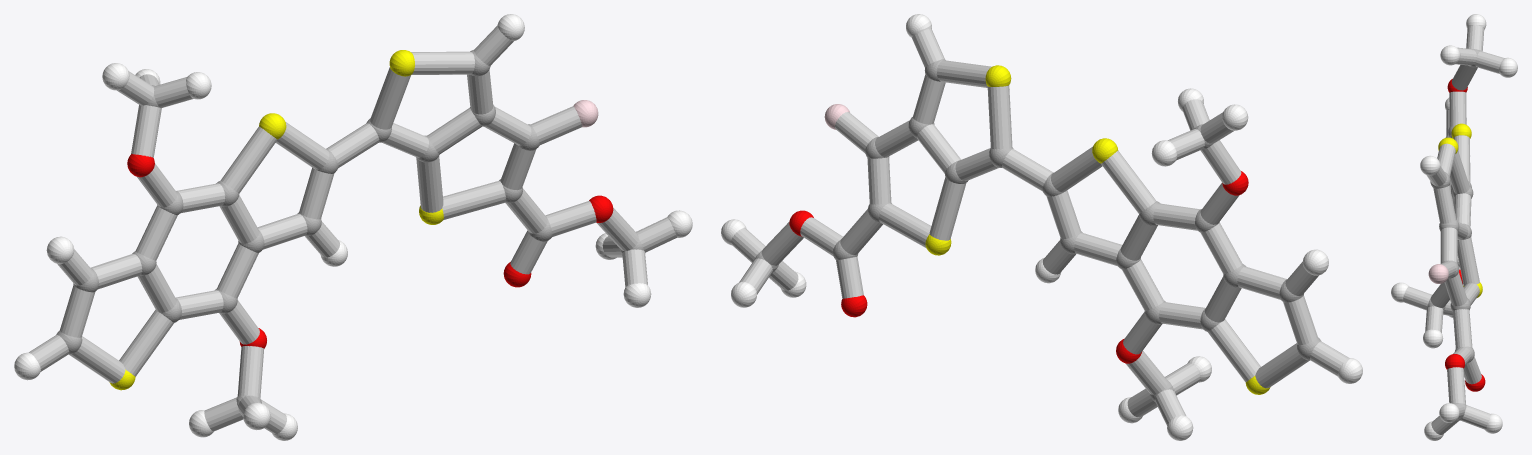
The model's file is Dimethoxy_Benzodithiophene_Phi_15_Theta_190_Methylcarbonyl_3_Fluoro_Thienothiophene.glb.
3 views of the same model, side by side, from view 1: azimuth 30°, elevation 25°; view 2: azimuth 150°, elevation 25°; view 3: azimuth 270°, elevation 25° (orthographic). The views are drawn at different scales.
Visible parts, largest first — view 1: grp15205, grp8689, grp1, grp7241, grp13395; view 2: grp15205, grp8689, grp1, grp7241, grp13395; view 3: grp15205, grp8689, grp1, grp13395, grp7241, grp14843.
Boxes of the visible parts, x1,y1,x2,y2 form: grp15205: [29, 25, 676, 434]; grp8689: [14, 14, 692, 440]; grp1: [56, 50, 644, 406]; grp7241: [109, 50, 443, 390]; grp13395: [127, 154, 613, 348]; grp15205: [731, 28, 1348, 425]; grp8689: [721, 14, 1362, 440]; grp1: [754, 59, 1321, 401]; grp7241: [925, 65, 1270, 394]; grp13395: [789, 171, 1248, 363]; grp15205: [1403, 25, 1504, 434]; grp8689: [1391, 14, 1517, 440]; grp1: [1427, 49, 1480, 420]; grp13395: [1445, 79, 1485, 391]; grp7241: [1438, 123, 1482, 297]; grp14843: [1428, 264, 1448, 283].
Bounding box in the file's own units: 16.85 × 9.28 × 3.77.
